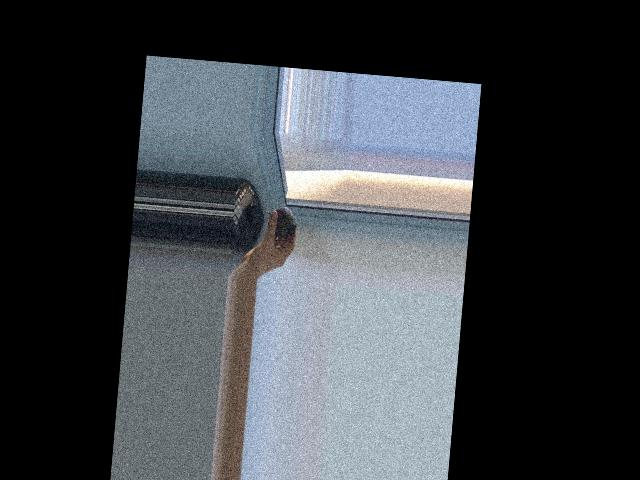beet: (264, 205, 297, 241)
